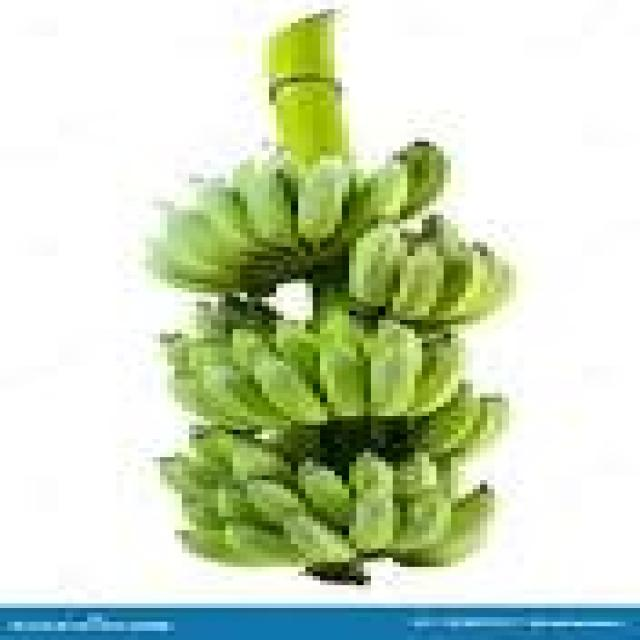banana: (400, 485, 494, 566), (204, 362, 290, 429), (233, 160, 298, 246), (197, 183, 261, 269), (342, 160, 407, 242), (255, 352, 327, 425), (430, 243, 494, 324), (182, 522, 298, 566), (146, 238, 239, 292), (190, 430, 290, 479), (350, 453, 399, 553), (371, 320, 421, 415), (350, 224, 407, 306), (415, 384, 479, 457), (408, 334, 465, 415), (299, 156, 349, 246), (459, 247, 516, 324), (320, 334, 370, 415), (284, 512, 356, 566), (400, 142, 450, 219), (393, 243, 443, 319), (393, 490, 450, 553), (226, 522, 305, 566), (168, 375, 232, 425), (299, 462, 349, 525), (459, 398, 509, 457), (182, 526, 254, 566), (313, 293, 363, 347), (277, 320, 319, 383), (160, 453, 218, 498), (248, 480, 305, 525), (364, 160, 407, 219), (219, 293, 276, 333), (422, 215, 465, 260), (393, 453, 436, 498), (211, 485, 261, 521), (270, 430, 319, 466), (350, 453, 392, 493), (233, 330, 269, 374), (190, 302, 225, 342), (182, 499, 225, 530), (437, 453, 465, 498), (190, 339, 225, 374)
